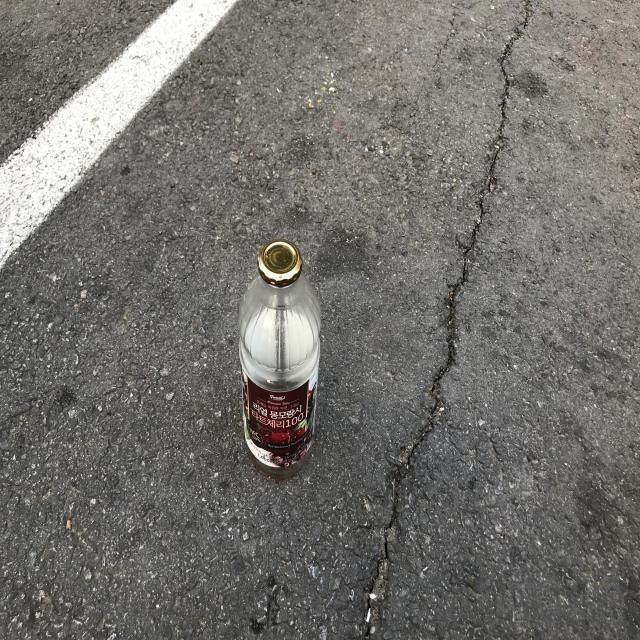glass: (238, 240, 321, 477)
